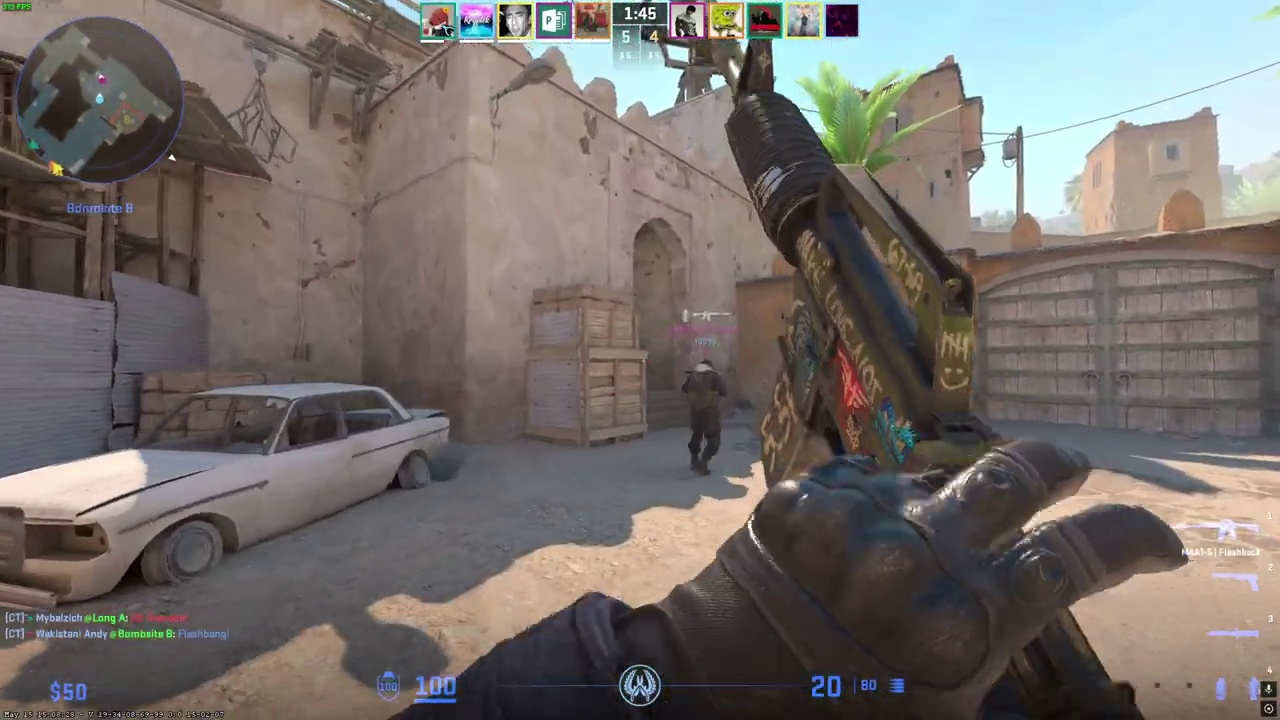CT: (683, 359, 725, 475)
